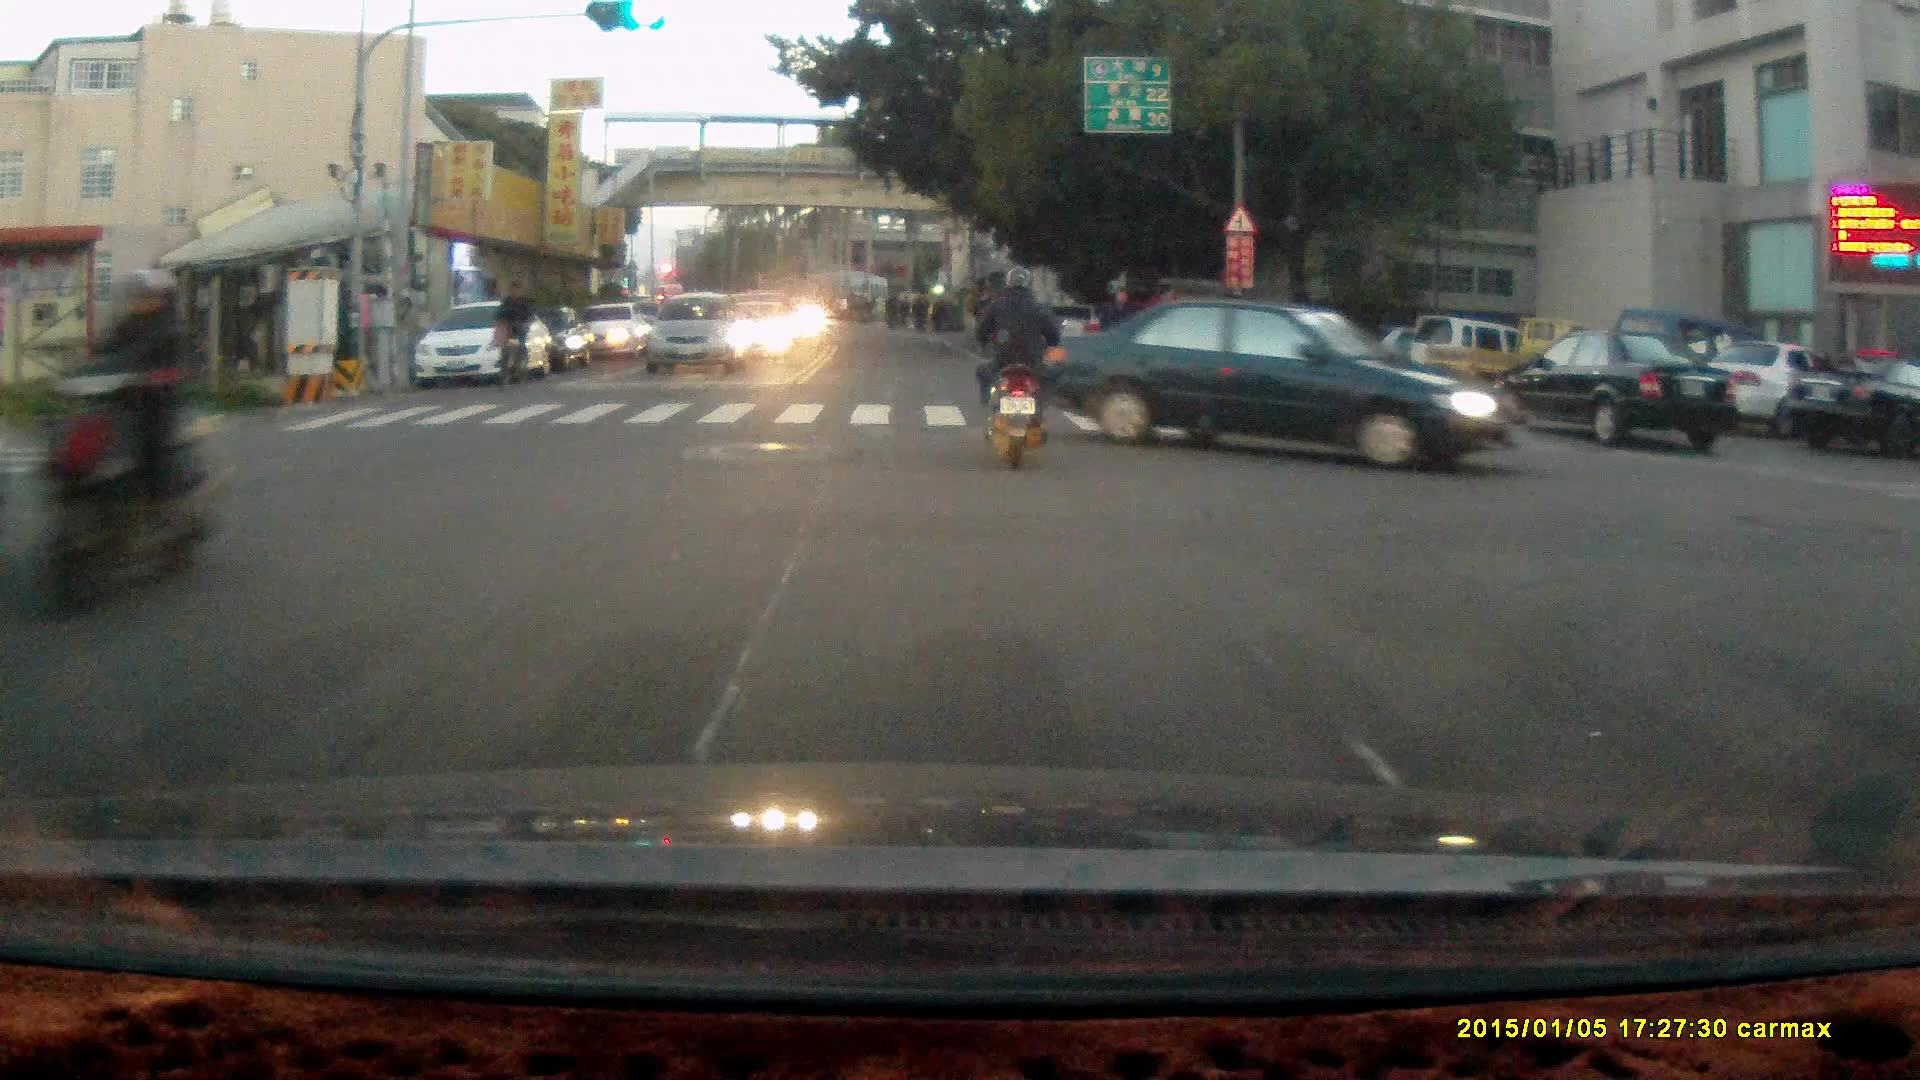pedestrian: (1103, 286, 1133, 368)
rider: (36, 263, 214, 623), (970, 264, 1064, 468), (491, 276, 533, 387)
vehicle: (1026, 289, 1517, 476), (1503, 328, 1738, 454), (1412, 316, 1636, 411), (1685, 337, 1874, 440), (1781, 352, 1920, 457), (413, 293, 558, 386), (642, 291, 754, 376)
